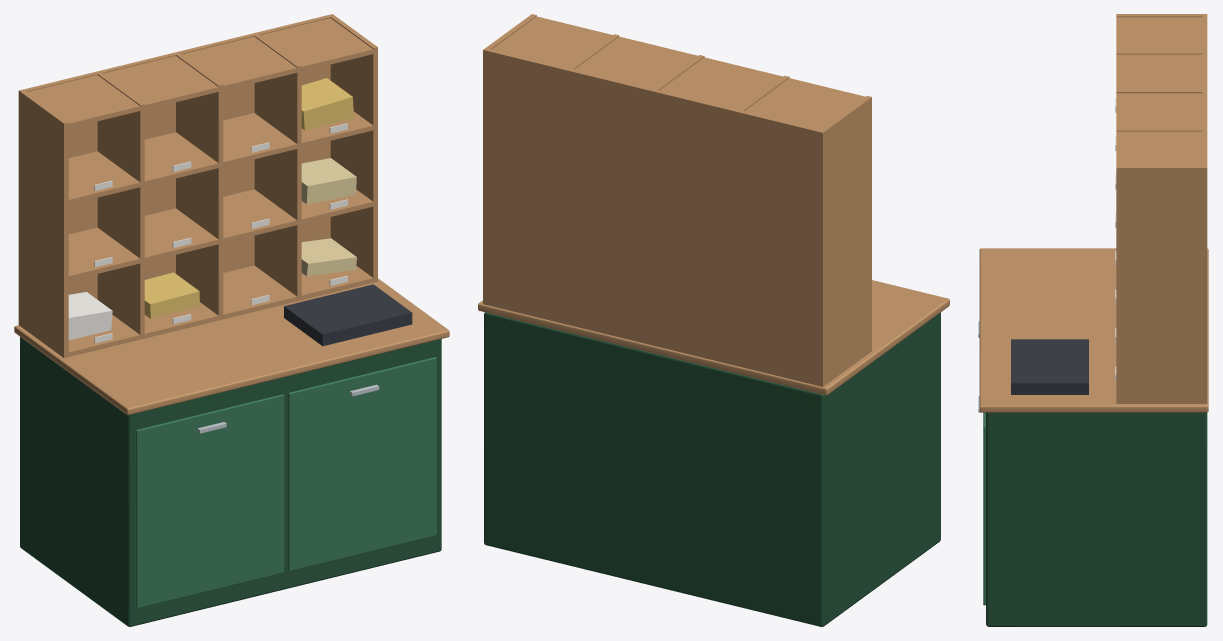
The model's file is MailStation.fbx.
3 renders of one model, left to right at view 1: azimuth 30°, elevation 25°; view 2: azimuth 150°, elevation 25°; view 3: azimuth 270°, elevation 25°, orthographic. The views are drawn at different scales.
Visible parts, largest first — view 1: MailStationBody, Door, Door__swap.001; view 2: MailStationBody; view 3: MailStationBody, Door__swap.001.
Part boxes in pixels (x1,y1,x2,y2): MailStationBody: (14,14,449,626); Door: (135,394,284,608); Door__swap.001: (288,357,436,571); MailStationBody: (478,14,949,626); MailStationBody: (978,14,1208,626); Door__swap.001: (983,412,985,605).
Size of the model in its own units: 1.44 by 1.95 by 0.885.
